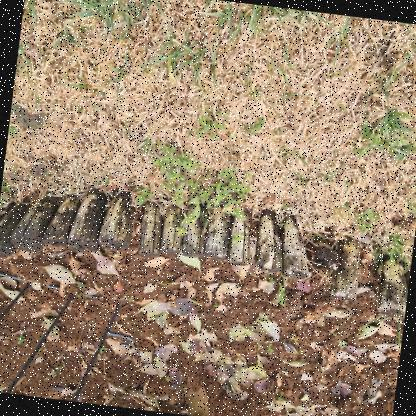Weeds: (144, 143, 259, 249), (357, 121, 411, 161), (193, 110, 229, 143), (352, 205, 382, 234), (239, 115, 266, 138), (271, 276, 289, 309), (0, 175, 15, 210), (132, 184, 149, 206), (128, 0, 162, 6)
